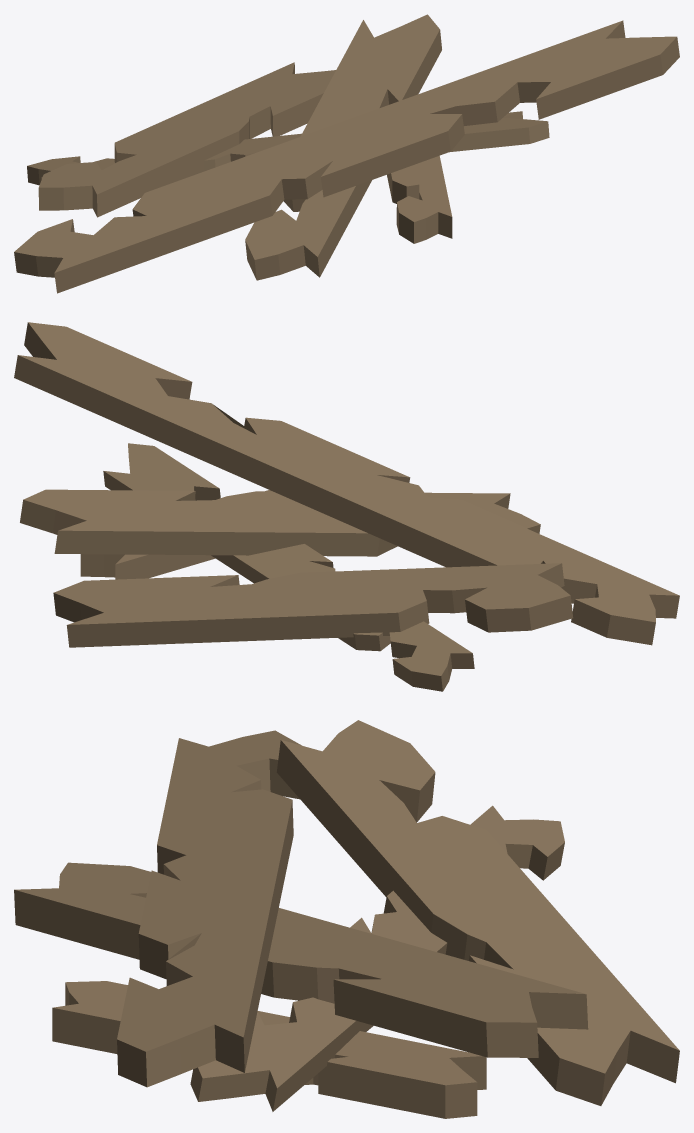
Rendered from WoodPile1.fbx.
3 views of the same model, one above another, from view 1: azimuth 30°, elevation 25°; view 2: azimuth 150°, elevation 25°; view 3: azimuth 270°, elevation 25° (orthographic). The views are drawn at different scales.
Parts seen in each view (by area): view 1: WoodPile1; view 2: WoodPile1; view 3: WoodPile1.
Boxes of the visible parts, x1,y1,x2,y2 form: WoodPile1: [14, 14, 679, 293]; WoodPile1: [14, 322, 679, 691]; WoodPile1: [14, 720, 679, 1118].
Size of the model in its own units: 3.39 by 0.6381 by 2.03.
